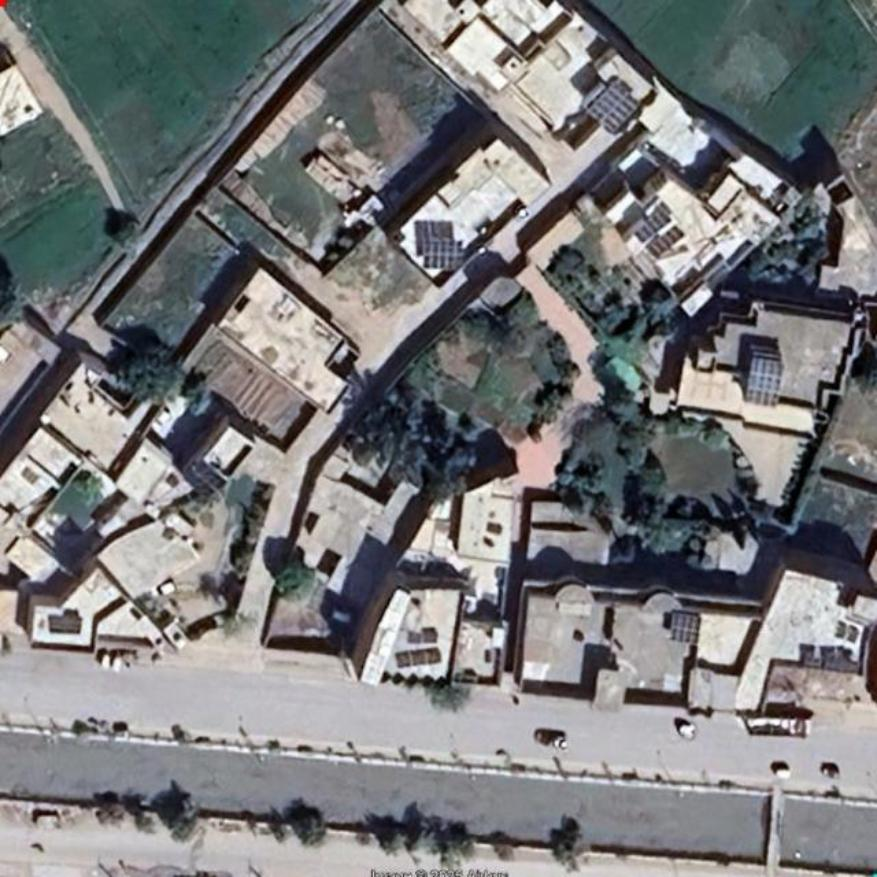Solarpanel: (587, 80, 639, 135), (743, 356, 782, 408), (423, 240, 464, 270), (670, 613, 701, 642)
